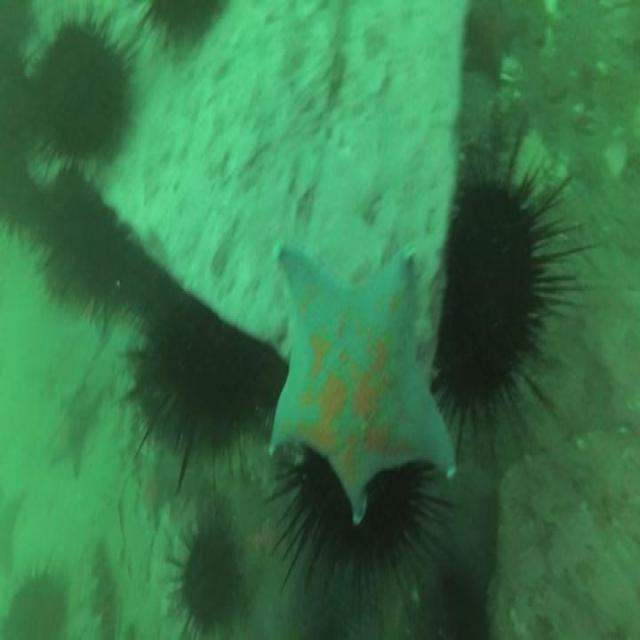echinus: (441, 180, 543, 392), (140, 299, 260, 441), (289, 457, 422, 569), (34, 25, 129, 155), (47, 199, 133, 311), (177, 536, 236, 627), (430, 569, 489, 640), (0, 49, 34, 158), (10, 572, 64, 640), (4, 169, 39, 226)
holothurian: (78, 545, 113, 640)
starfish: (262, 236, 458, 523), (463, 0, 516, 82), (52, 390, 100, 478), (138, 454, 172, 526)
